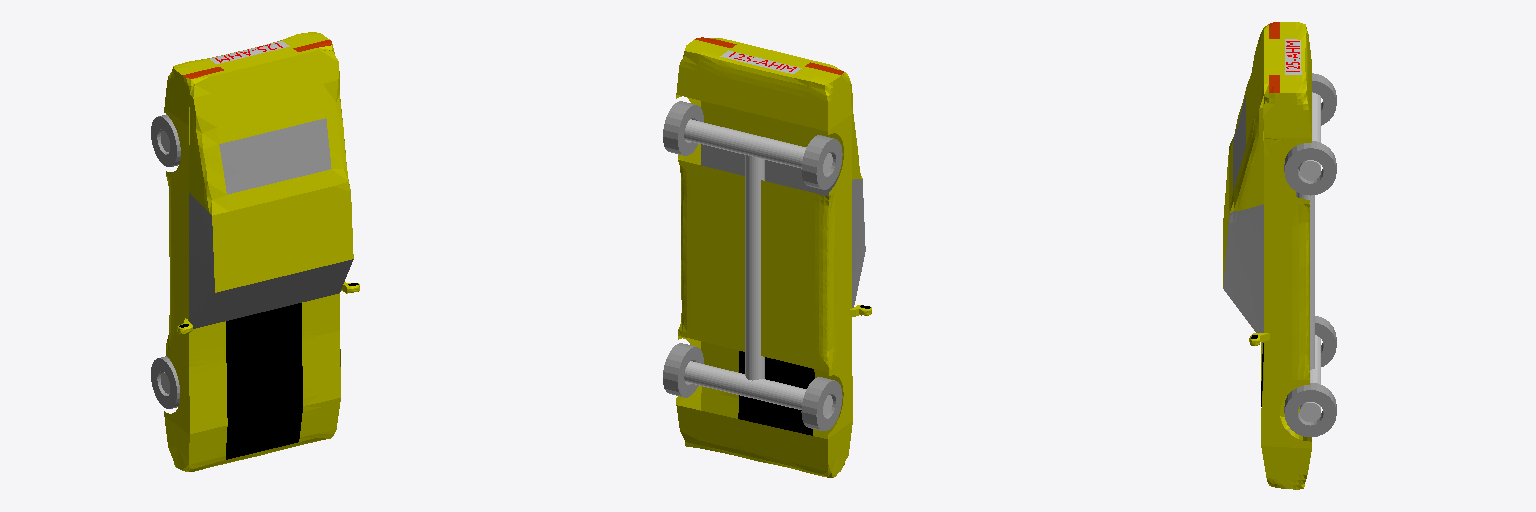
Rendered from mustang.obj.
3 renders of one model, left to right at view 1: azimuth 30°, elevation 25°; view 2: azimuth 150°, elevation 25°; view 3: azimuth 270°, elevation 25°, orthographic.
Visible parts, largest first — view 1: Car_Cube, TireFL_Plane.003, TireBL_Plane.002; view 2: Car_Cube, AxisUnder_Cylinder.002, AxisFront_Cylinder.001, AxisBack_Cylinder, TireFL_Plane.003, TireBL_Plane.002, TireFR_Plane.001, TireBR_Plane; view 3: Car_Cube, TireBR_Plane, TireFR_Plane.001, AxisUnder_Cylinder.002, AxisFront_Cylinder.001, TireFL_Plane.003, TireBL_Plane.002, AxisBack_Cylinder.
Boxes of the visible parts, box(x1,y1,x2,y2) form: Car_Cube: box(164, 32, 353, 471); TireFL_Plane.003: box(151, 114, 180, 166); TireBL_Plane.002: box(151, 356, 179, 408); Car_Cube: box(676, 37, 865, 477); AxisUnder_Cylinder.002: box(745, 155, 764, 380); AxisFront_Cylinder.001: box(684, 119, 832, 173); AxisBack_Cylinder: box(684, 361, 832, 415); TireFL_Plane.003: box(801, 135, 842, 189); TireBL_Plane.002: box(801, 377, 842, 430); TireFR_Plane.001: box(663, 101, 703, 155); TireBR_Plane: box(663, 343, 703, 397); Car_Cube: box(1223, 22, 1311, 489); TireBR_Plane: box(1284, 383, 1336, 436); TireFR_Plane.001: box(1284, 141, 1336, 195); AxisUnder_Cylinder.002: box(1296, 166, 1314, 369); AxisFront_Cylinder.001: box(1300, 92, 1320, 180); TireFL_Plane.003: box(1312, 73, 1336, 125); TireBL_Plane.002: box(1315, 316, 1336, 366); AxisBack_Cylinder: box(1300, 335, 1320, 421).
Bounding box in the file's own units: 8.64 × 18.09 × 4.68.